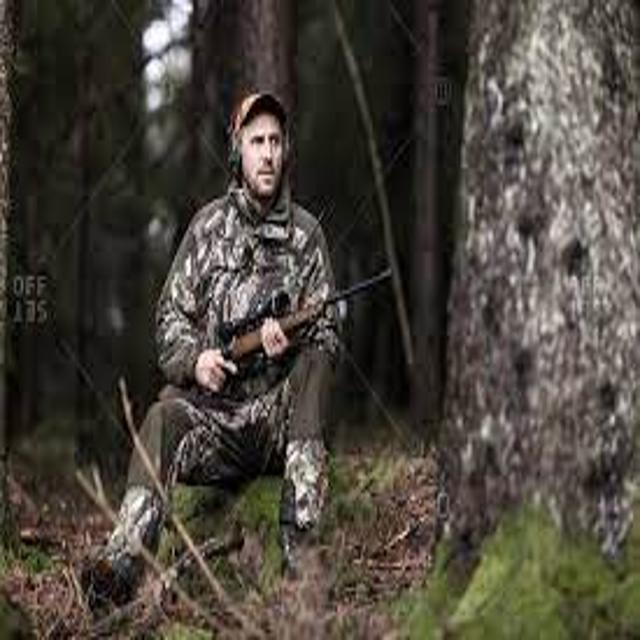gun: (151, 247, 452, 404)
poacher: (61, 65, 388, 635)
